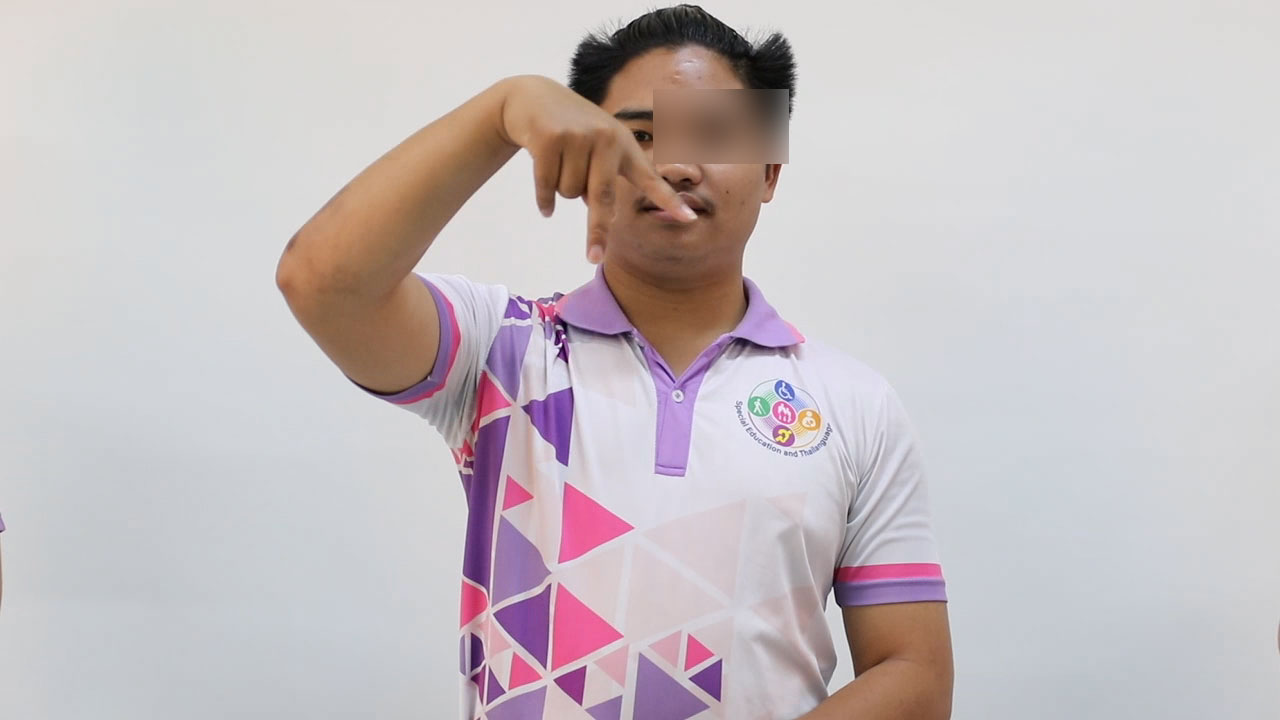por: (488, 67, 704, 267)
